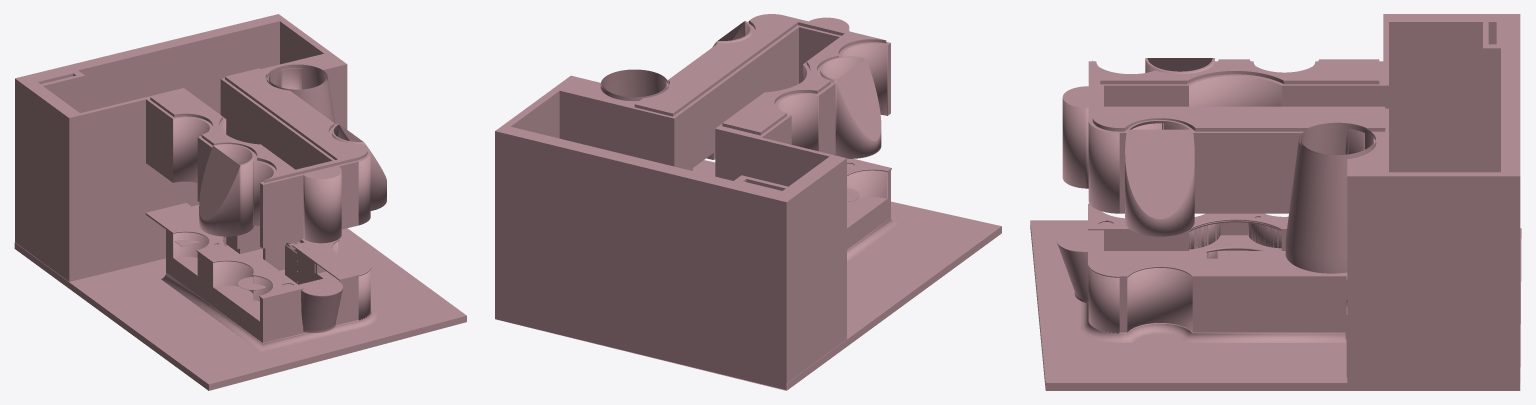
The model's file is asset.glb.
The picture shows the model from 3 angles, left to right: view 1: azimuth 30°, elevation 25°; view 2: azimuth 150°, elevation 25°; view 3: azimuth 270°, elevation 25°; orthographic projection. The views are drawn at different scales.
Visible parts, largest first — view 1: the final model; view 2: the final model; view 3: the final model.
Part boxes in pixels (box(x1,y1,x2,y2)): the final model: box(14, 14, 466, 390); the final model: box(495, 14, 1001, 390); the final model: box(1030, 14, 1521, 390).
Size of the model in its own units: 4.98 by 3.12 by 6.36.
